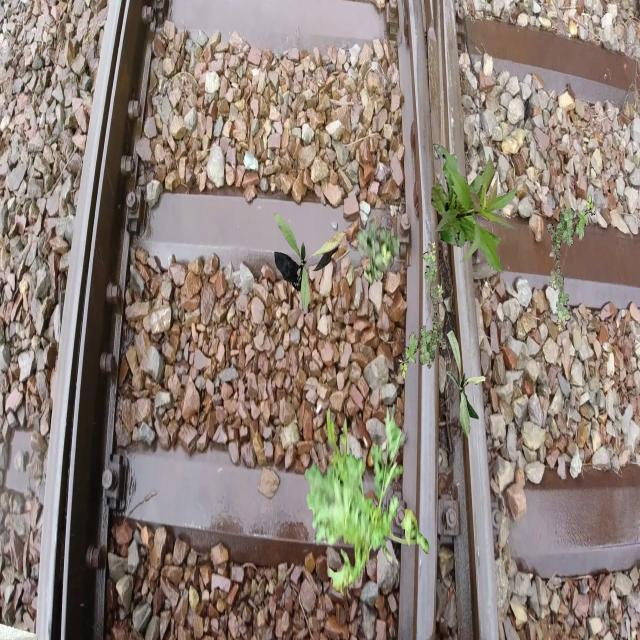Plant: (304, 404, 429, 600), (431, 144, 520, 274), (274, 213, 346, 312), (547, 195, 596, 333), (398, 241, 446, 379), (446, 330, 486, 440), (356, 219, 399, 286)
